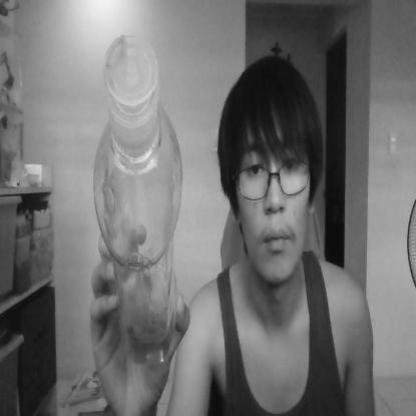Plastic Bottle: (90, 34, 184, 371)
